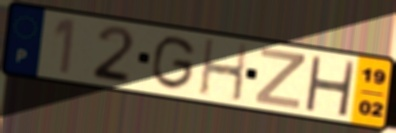1: (49, 15, 77, 77)
2: (92, 24, 138, 87)
G: (149, 34, 198, 93)
H: (302, 53, 358, 118), (198, 37, 250, 104)
Z: (252, 46, 308, 111)
